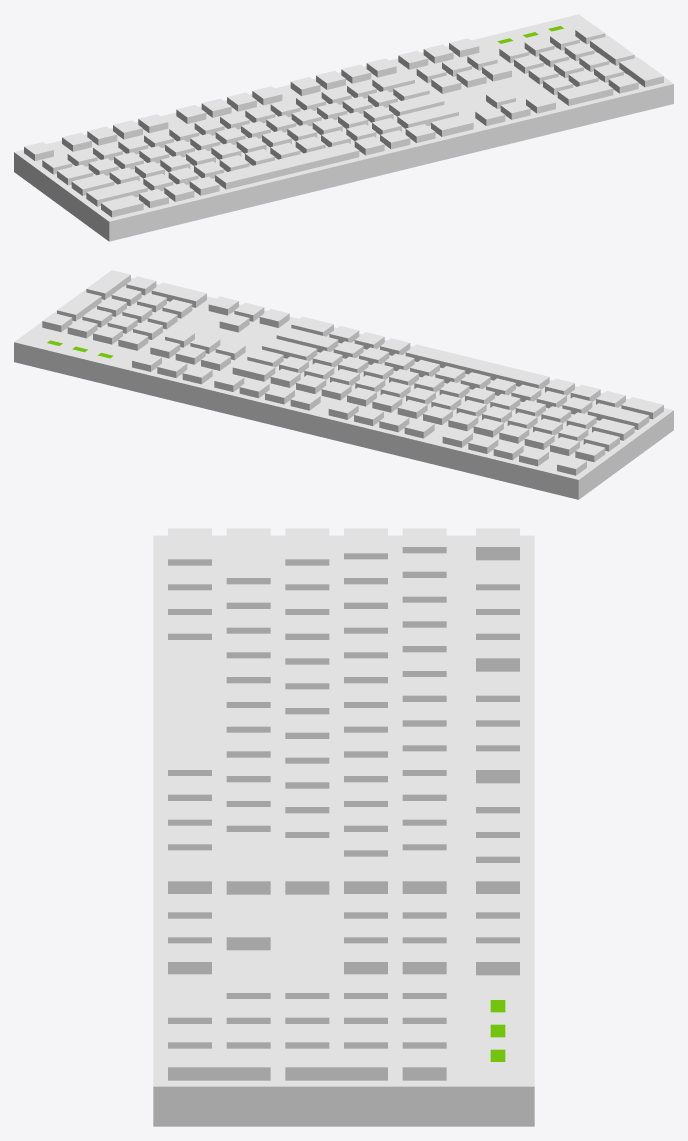
Rendered from Keyboard2.fbx.
3 views of the same model, one above another, from view 1: azimuth 30°, elevation 25°; view 2: azimuth 150°, elevation 25°; view 3: azimuth 270°, elevation 25° (orthographic). The views are drawn at different scales.
Visible parts, largest first — view 1: Keyboard2; view 2: Keyboard2; view 3: Keyboard2.
Part boxes in pixels (left/top/right/bottom): Keyboard2: left=14, top=14, right=673, bottom=241; Keyboard2: left=14, top=270, right=673, bottom=499; Keyboard2: left=153, top=528, right=534, bottom=1126.
Size of the model in its own units: 8.9 by 0.4 by 2.6.
